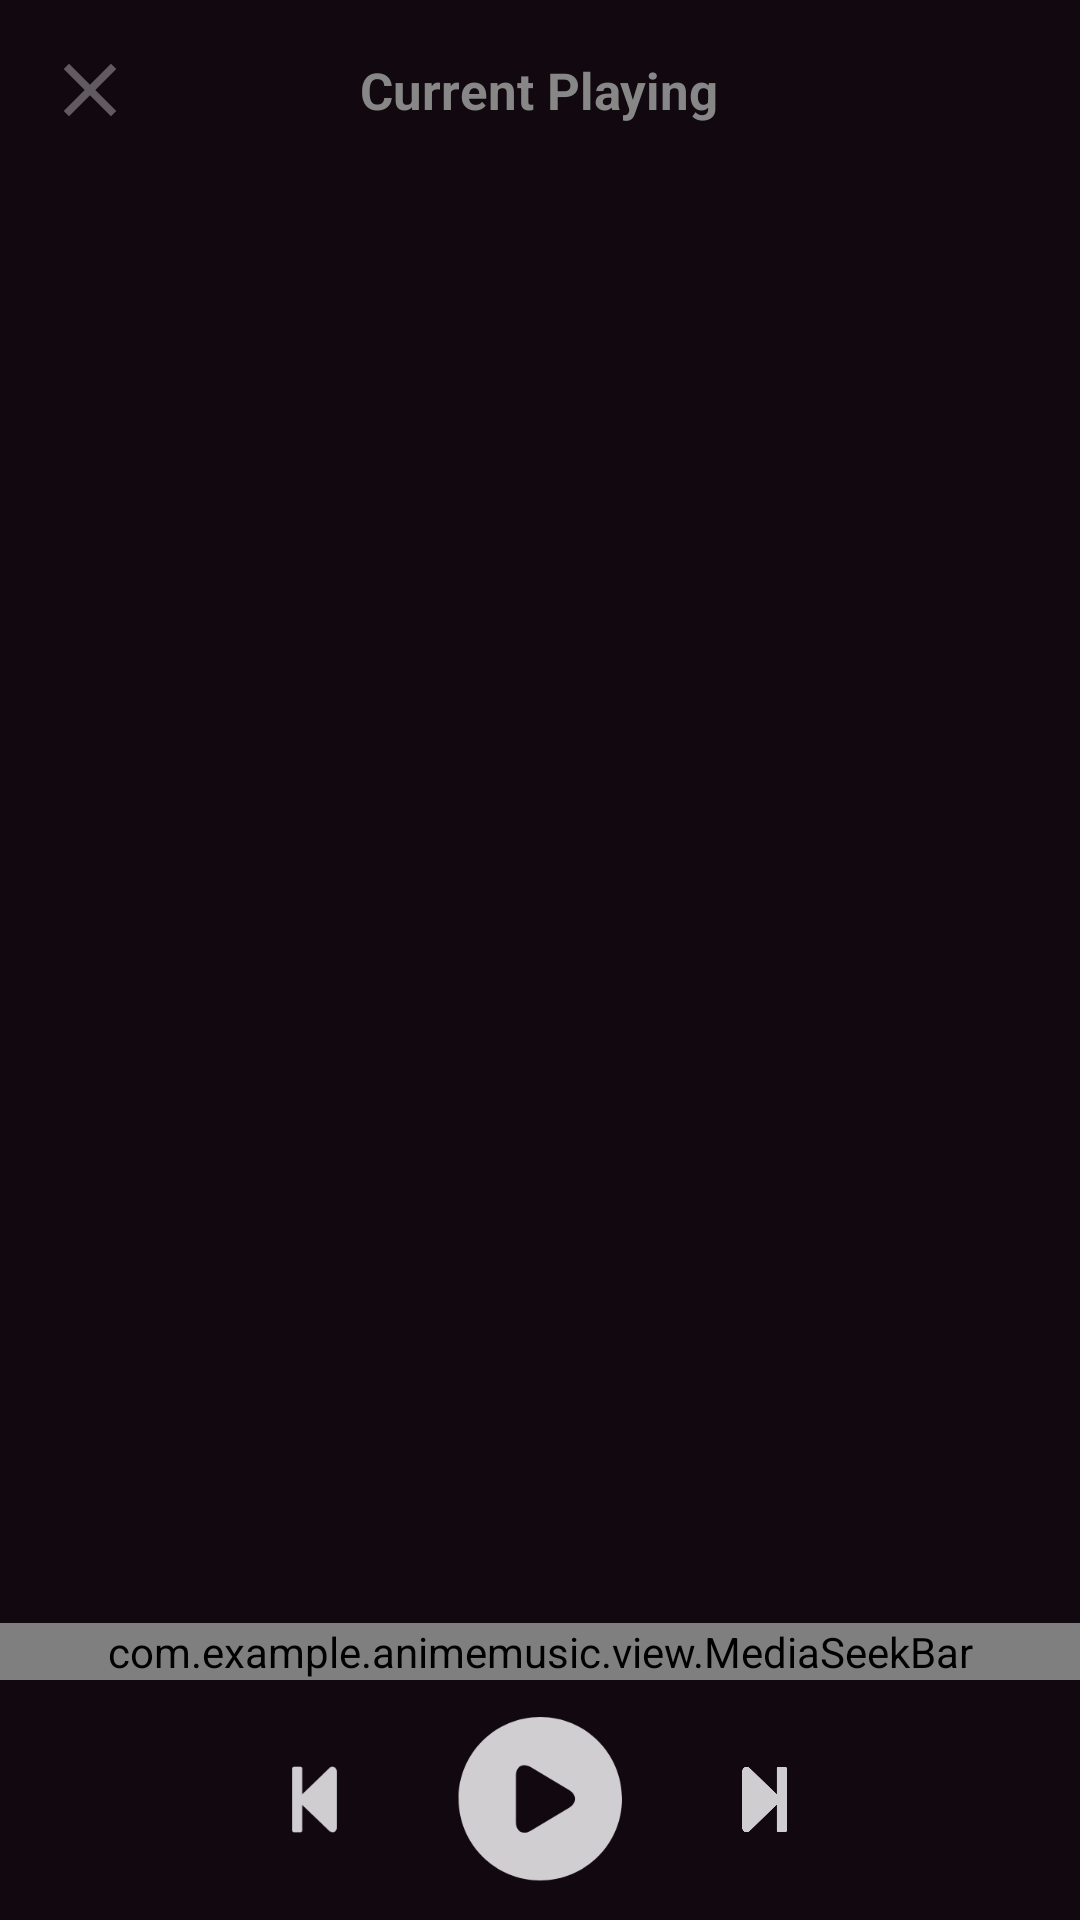

Icon click points for this 1080x1920 phone screenshot, format [x,y]:
close: [90,90]
expand play: [540,1799]
step backward: [314,1799]
step forward: [764,1799]
